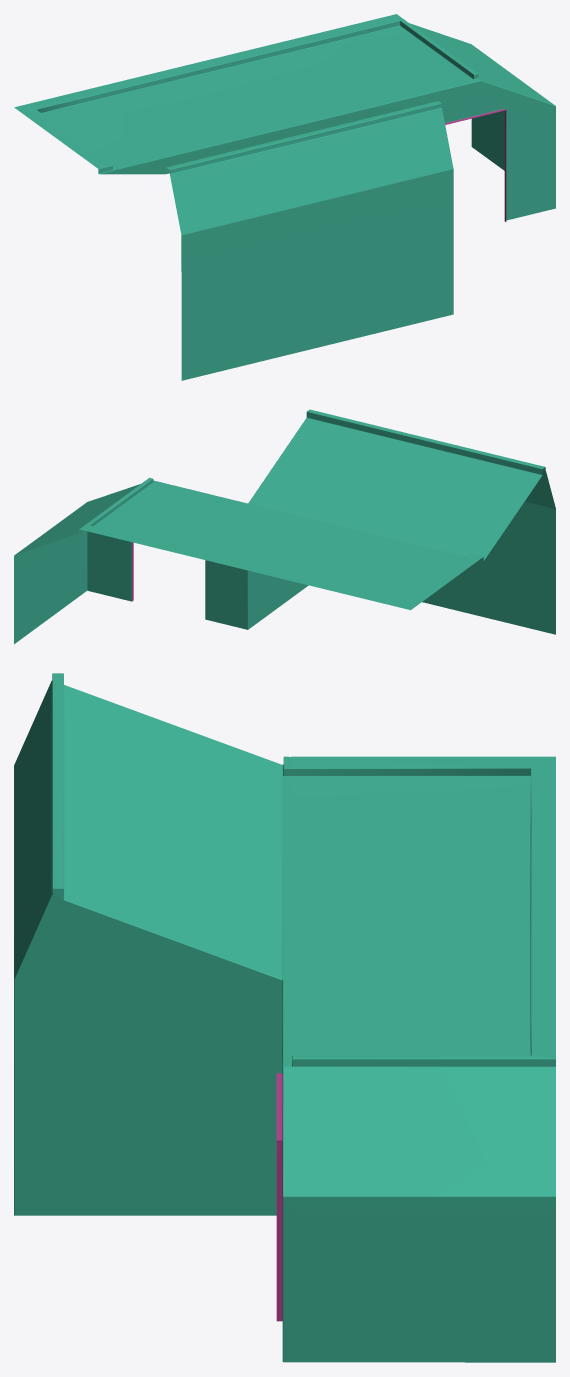
The model's file is StructureOfficeInterior_01_Mesh.fbx.
The picture shows the model from 3 angles, top to bottom: view 1: azimuth 30°, elevation 25°; view 2: azimuth 150°, elevation 25°; view 3: azimuth 270°, elevation 25°; orthographic projection. The views are drawn at different scales.
Parts seen in each view (by area): view 1: StructureOfficeInterior_01_Mesh; view 2: StructureOfficeInterior_01_Mesh; view 3: StructureOfficeInterior_01_Mesh.
Part boxes in pixels (box(x1,y1,x2,y2)): StructureOfficeInterior_01_Mesh: box(14, 14, 555, 380); StructureOfficeInterior_01_Mesh: box(14, 409, 555, 644); StructureOfficeInterior_01_Mesh: box(14, 673, 555, 1362).
Size of the model in its own units: 1206 by 510 by 765.
